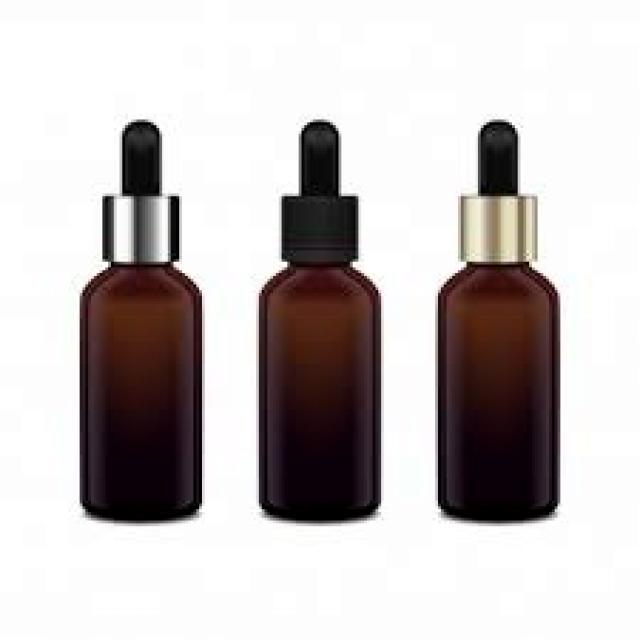Plastic: (72, 116, 209, 527), (252, 112, 387, 529), (428, 114, 563, 527)
